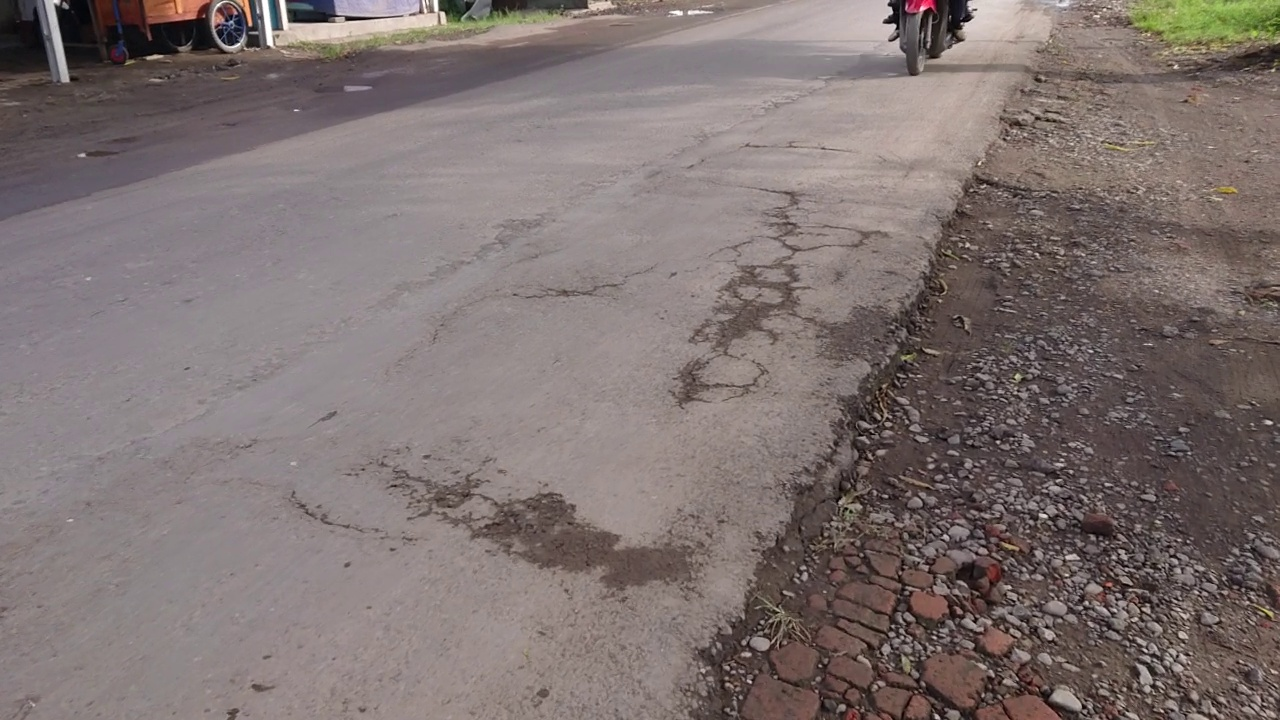Retak: (390, 467, 700, 591), (686, 191, 856, 397)
